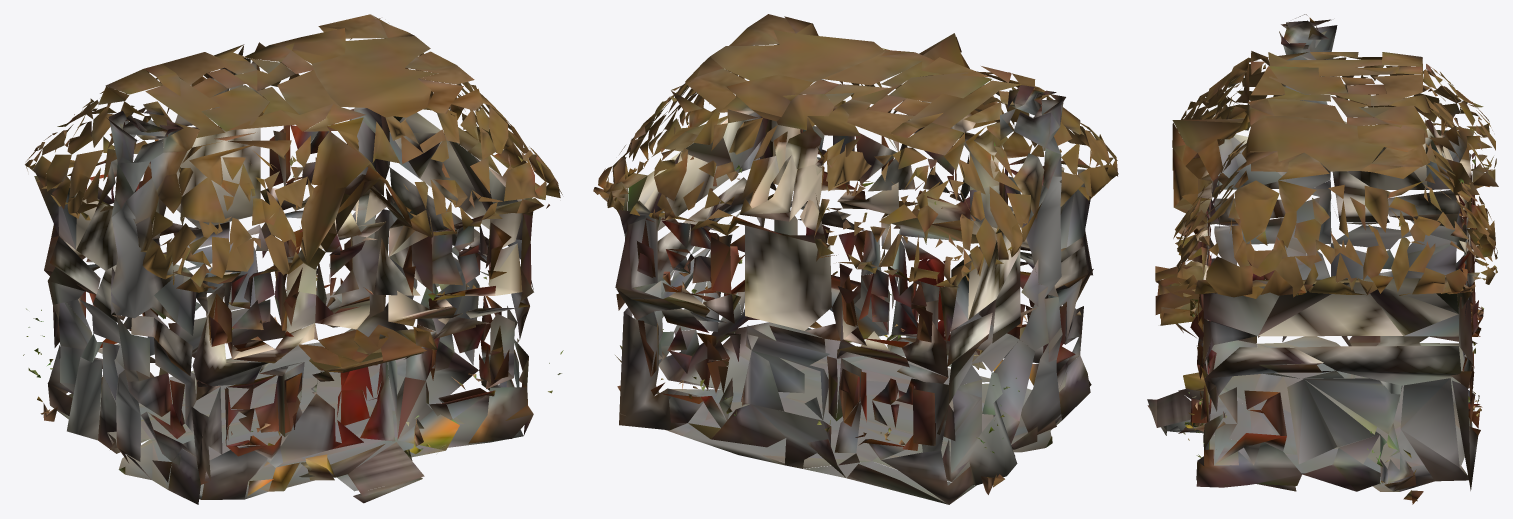
Rendered from Rpg_house_town.glb.
3 views of the same model, side by side, from view 1: azimuth 30°, elevation 25°; view 2: azimuth 150°, elevation 25°; view 3: azimuth 270°, elevation 25° (orthographic). The views are drawn at different scales.
Visible parts, largest first — view 1: Rpg_house; view 2: Rpg_house; view 3: Rpg_house.
Part boxes in pixels (x1,y1,x2,y2): Rpg_house: [23, 14, 563, 504]; Rpg_house: [593, 14, 1118, 504]; Rpg_house: [1147, 14, 1498, 504].
Size of the model in its own units: 1.78 by 1.46 by 1.42.
Materials: 1 (1 with a texture image).
